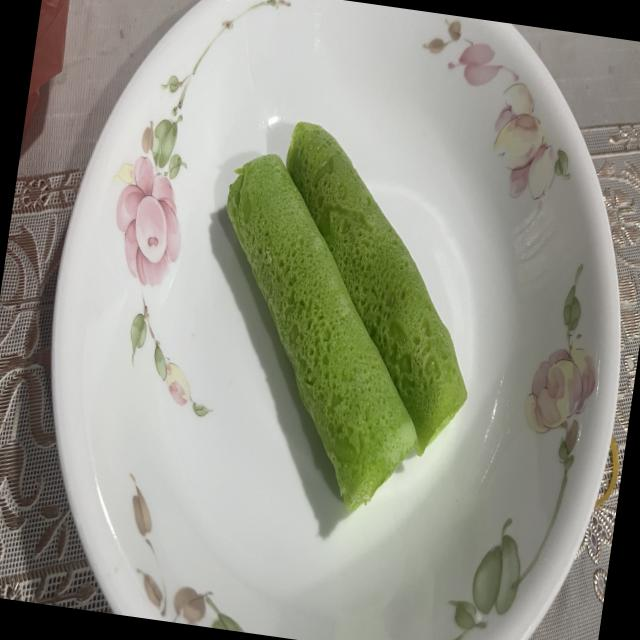Kuih-Ketayap: (227, 154, 417, 511), (286, 122, 467, 455)
